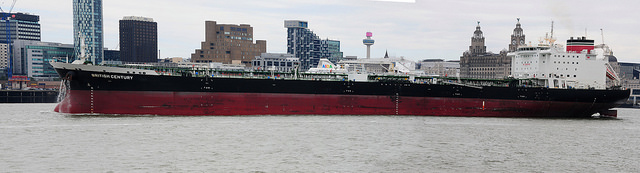tanker: (53, 19, 628, 123)
